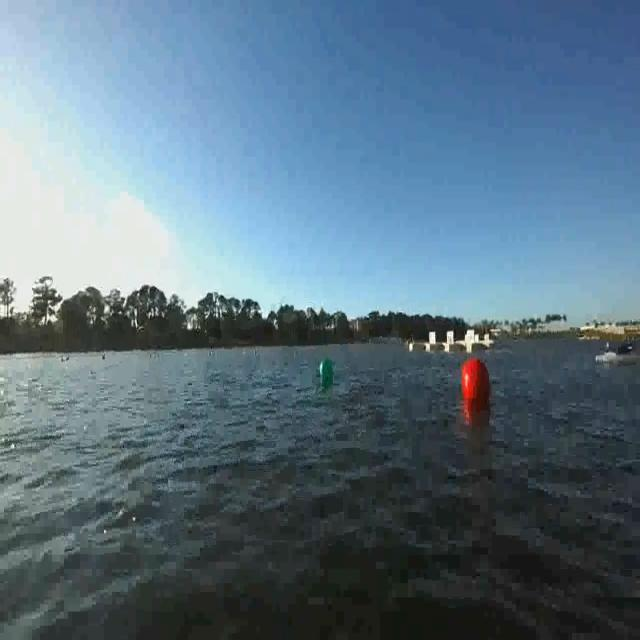green-buoy: (318, 356, 336, 387)
red-buoy: (462, 357, 491, 403)
